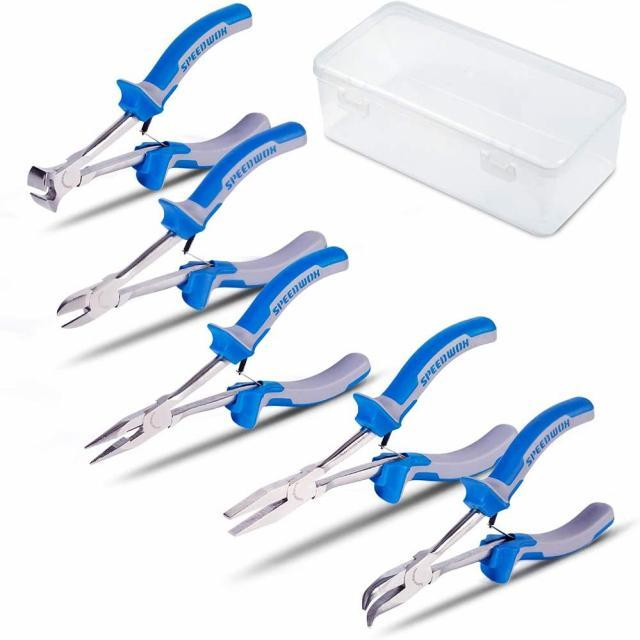pliers: (219, 313, 521, 540), (78, 241, 376, 471), (357, 392, 621, 631), (52, 117, 330, 335), (23, 0, 273, 217)
